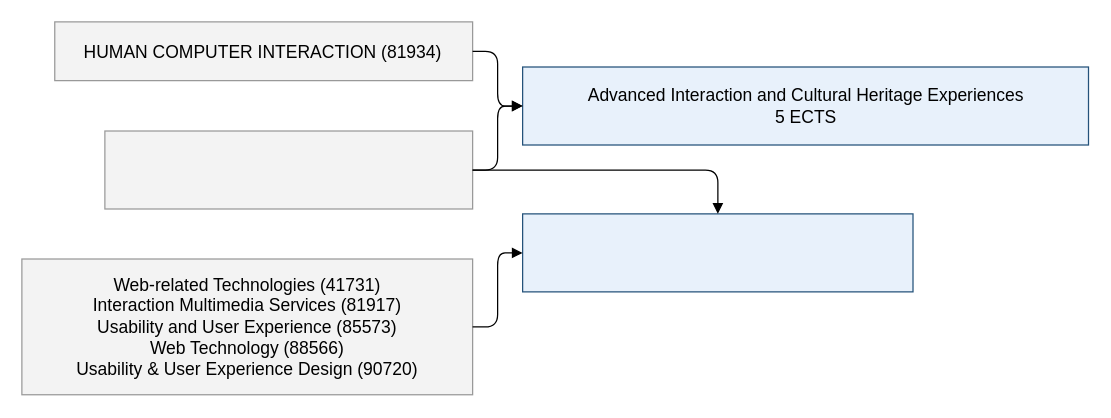
Some shapes in this 1111 by 418 pixel diagram are drawn without their labels. Each missing label, with the box of its shape:
User Experience Design (91264) Interaction Media Design (B5059): (104, 130, 473, 209)
User Experience Design Foundations 4 ECTS: (521, 213, 913, 292)
